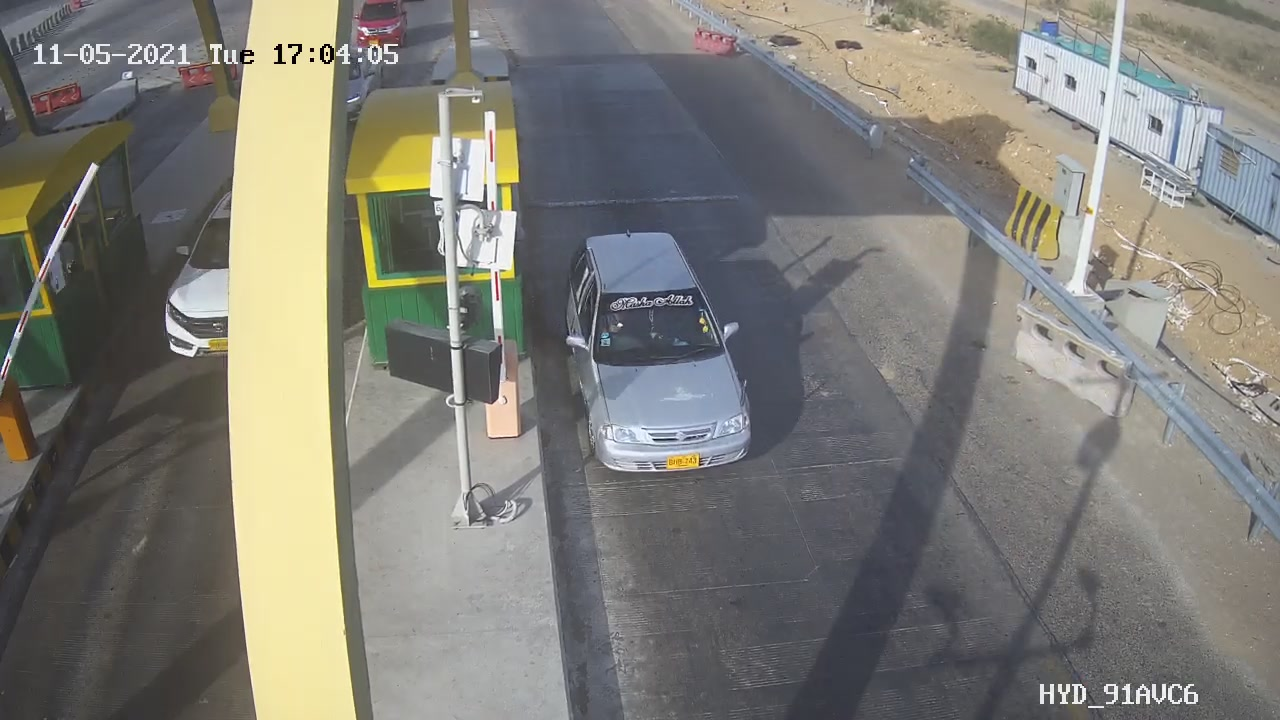F1: (537, 211, 786, 498)
